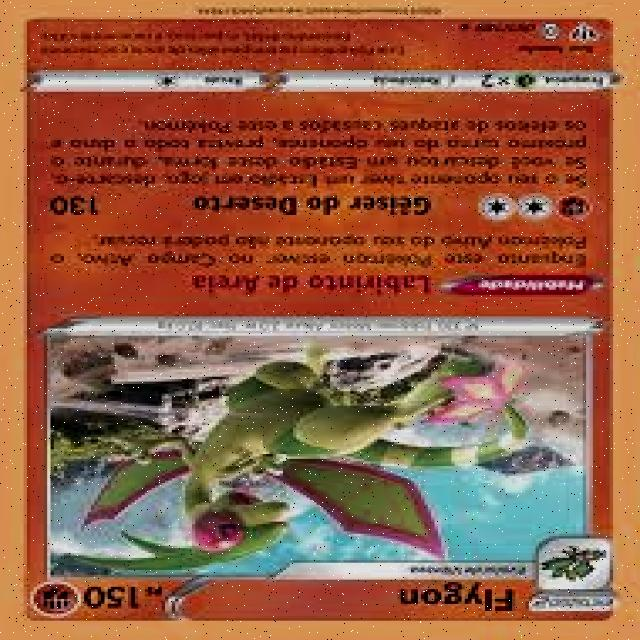flygon: (41, 340, 524, 574)
